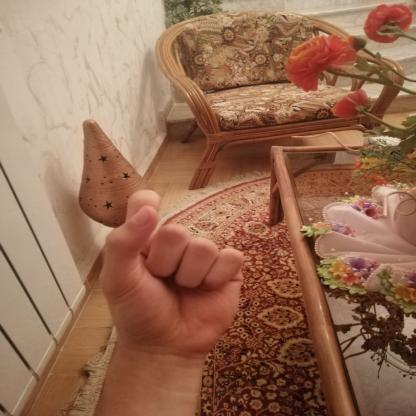FAA: (81, 180, 259, 366)
